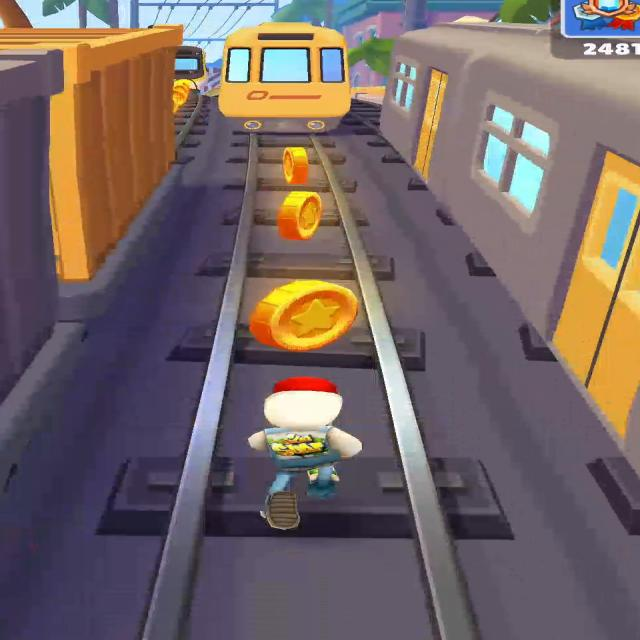train: (381, 21, 639, 471), (0, 26, 181, 282), (219, 23, 349, 133), (175, 45, 206, 88)
